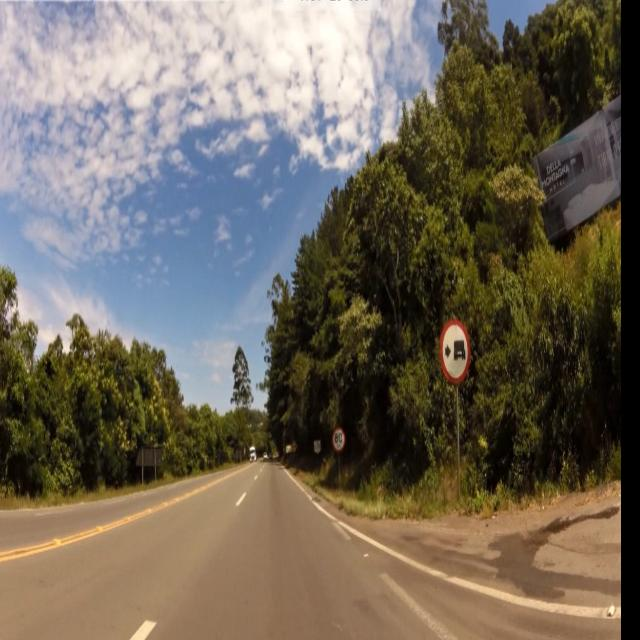R-7: (440, 318, 470, 392)
